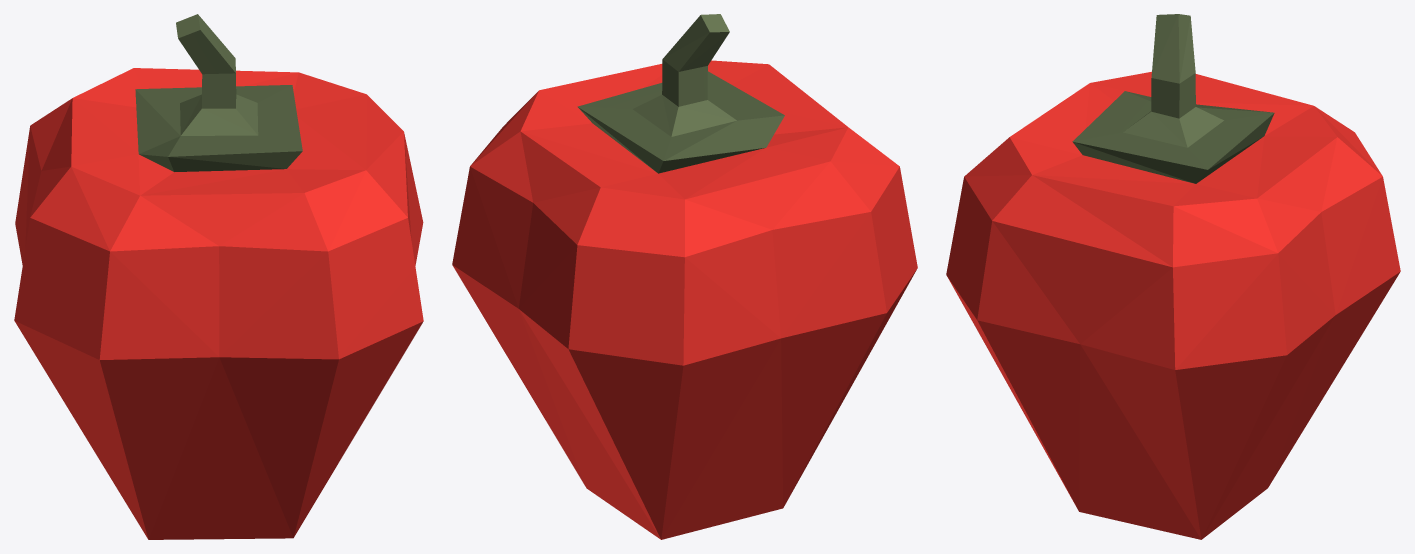
File: SM_Food_Pepper_01.fbx
3 views of the same model, side by side, from view 1: azimuth 30°, elevation 25°; view 2: azimuth 150°, elevation 25°; view 3: azimuth 270°, elevation 25° (orthographic). The views are drawn at different scales.
Parts seen in each view (by area): view 1: SM_Food_Pepper_01; view 2: SM_Food_Pepper_01; view 3: SM_Food_Pepper_01.
Boxes of the visible parts, box(x1,y1,x2,y2) form: SM_Food_Pepper_01: box(14, 14, 423, 539); SM_Food_Pepper_01: box(452, 14, 917, 539); SM_Food_Pepper_01: box(946, 14, 1400, 539).
Bounding box in the file's own units: 0.1203 × 0.1445 × 0.1203.
